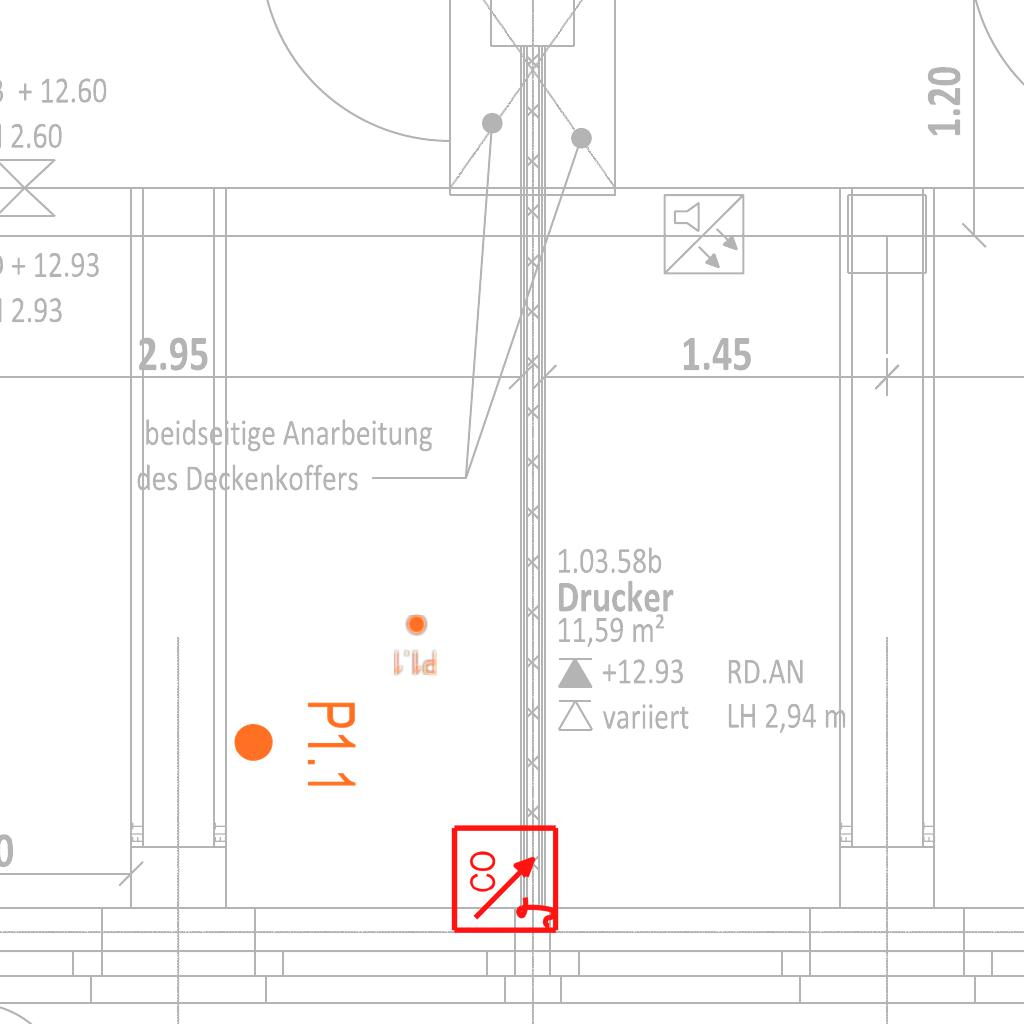Downlight_LED_Einbauleuchten_Flur: (231, 699, 359, 792), (392, 613, 438, 677)
ROA_Rauchmelder_optisch_mit_Signalgeber_(Sockelsirene): (450, 822, 563, 935)
